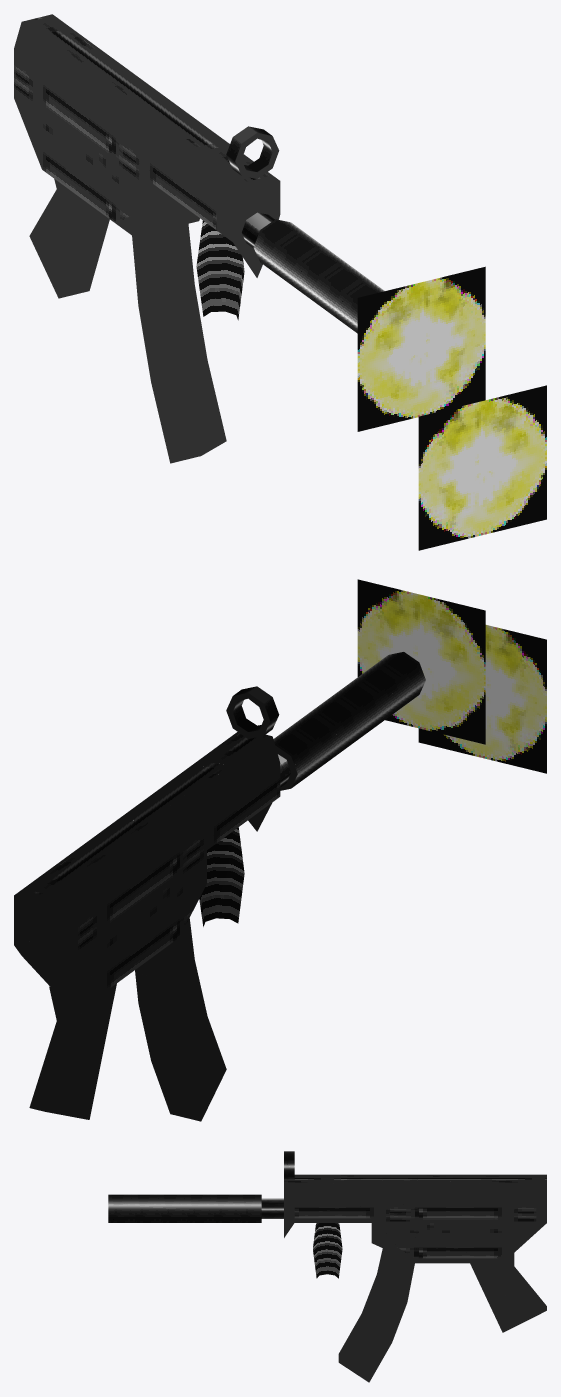
Rendered from Gmp5ksilZ.obj.
3 renders of one model, top to bottom at view 1: azimuth 30°, elevation 25°; view 2: azimuth 150°, elevation 25°; view 3: azimuth 270°, elevation 25°, orthographic. The views are drawn at different scales.
Bounding box in the file's own units: 116 × 328 × 699.
Materials: 13 (13 with a texture image).
